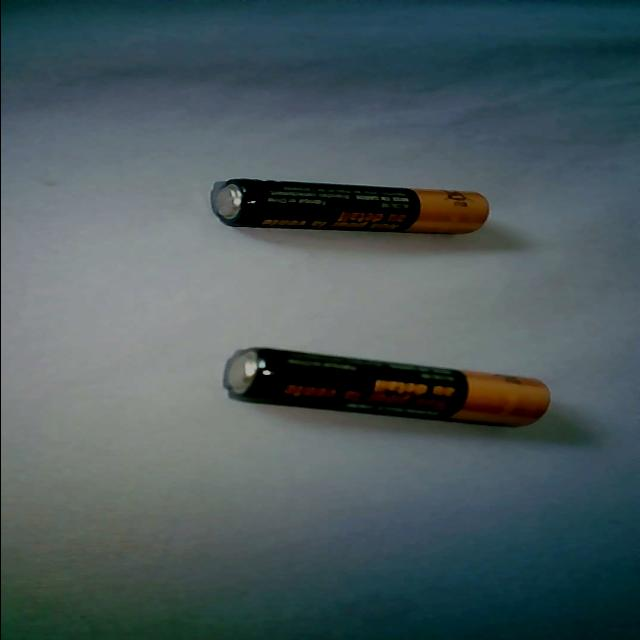AA: (224, 346, 552, 428), (210, 178, 490, 235)
